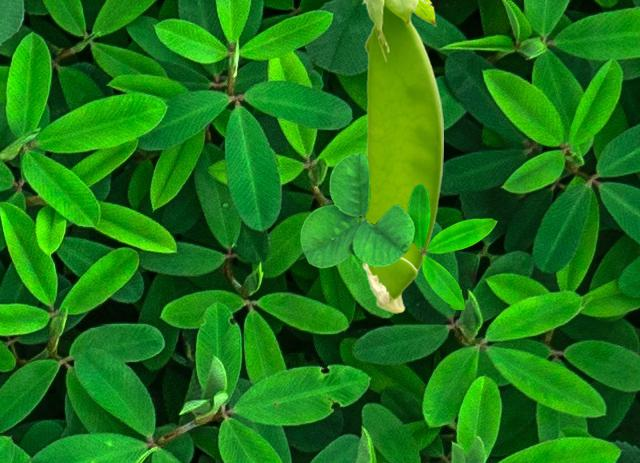pea: (361, 0, 442, 312)
